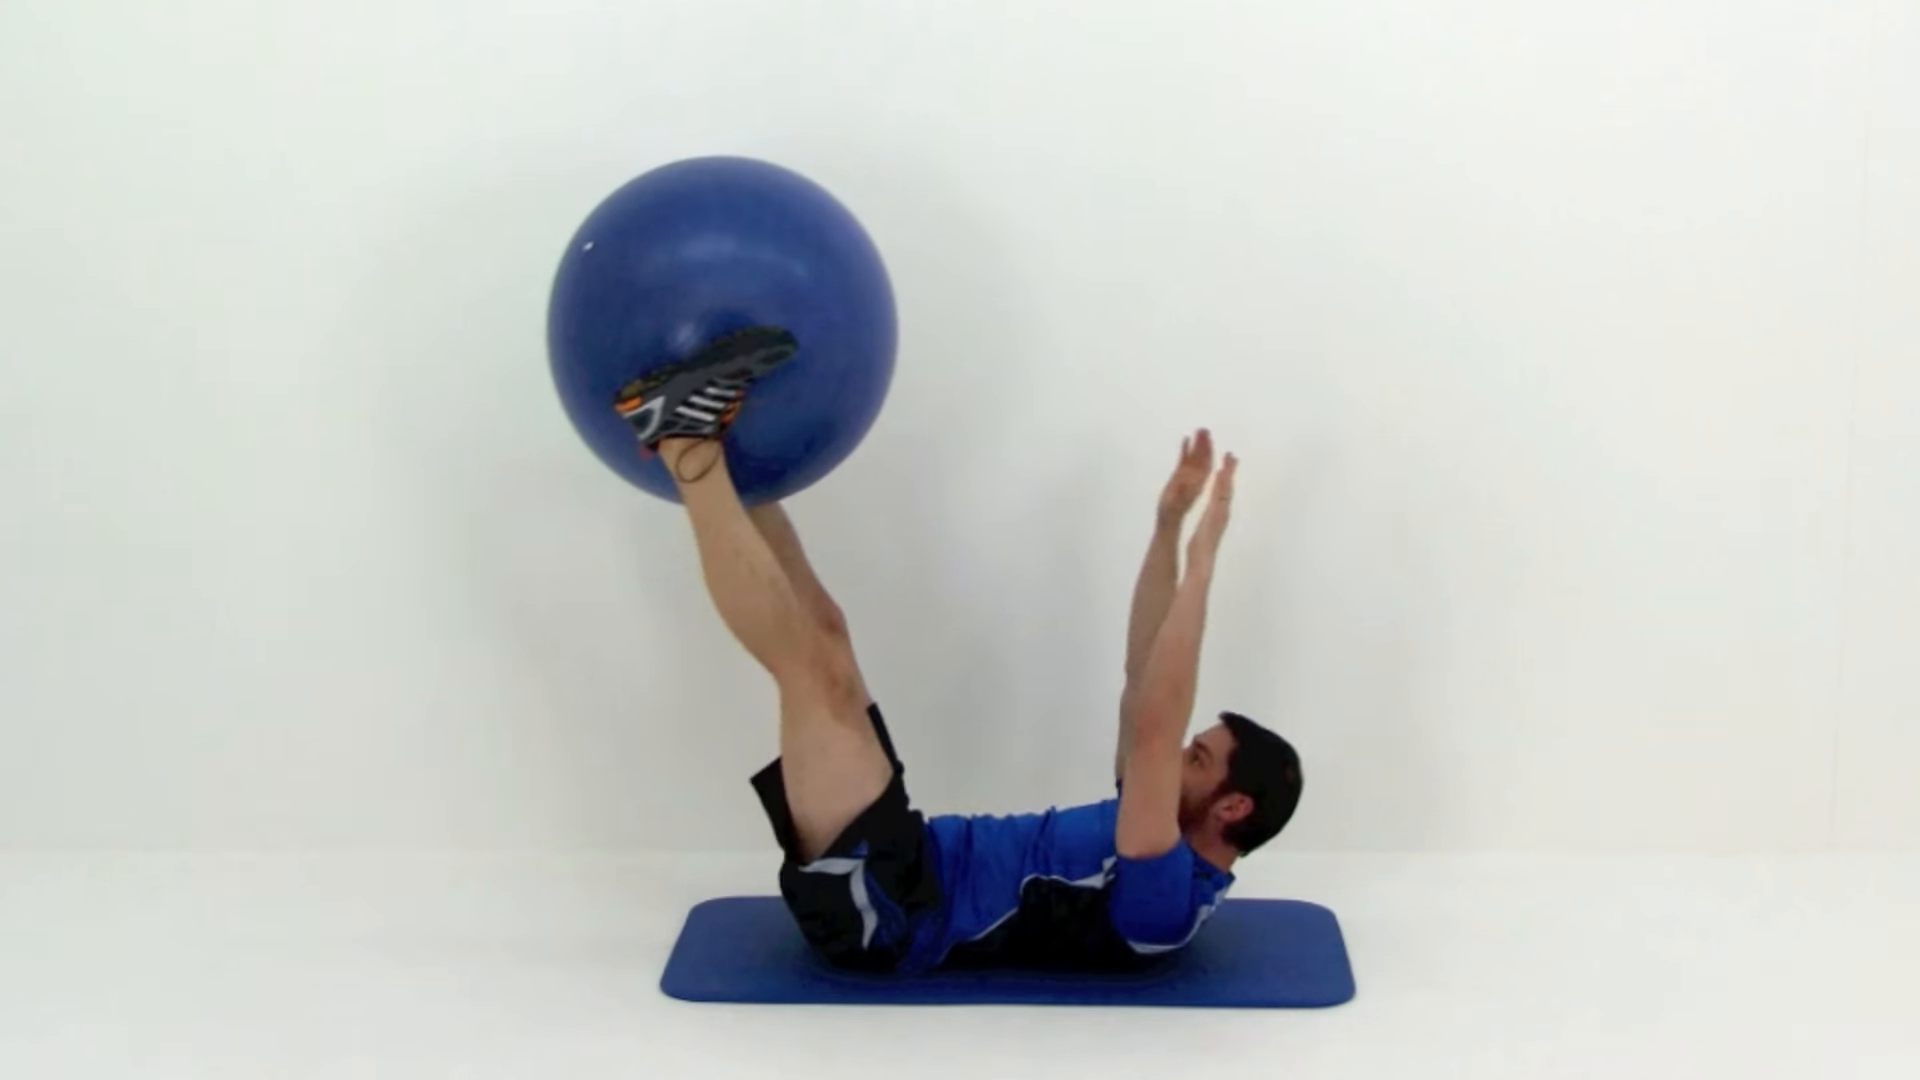yogaball: (533, 146, 903, 514)
